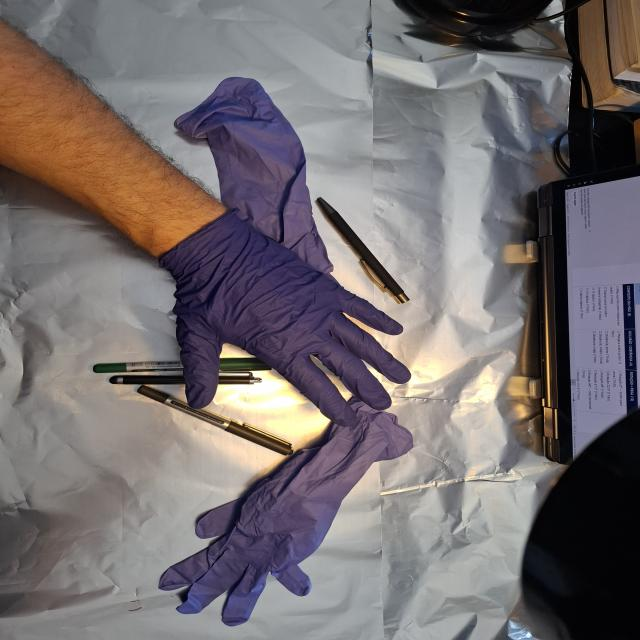glove_on: (167, 210, 415, 430)
